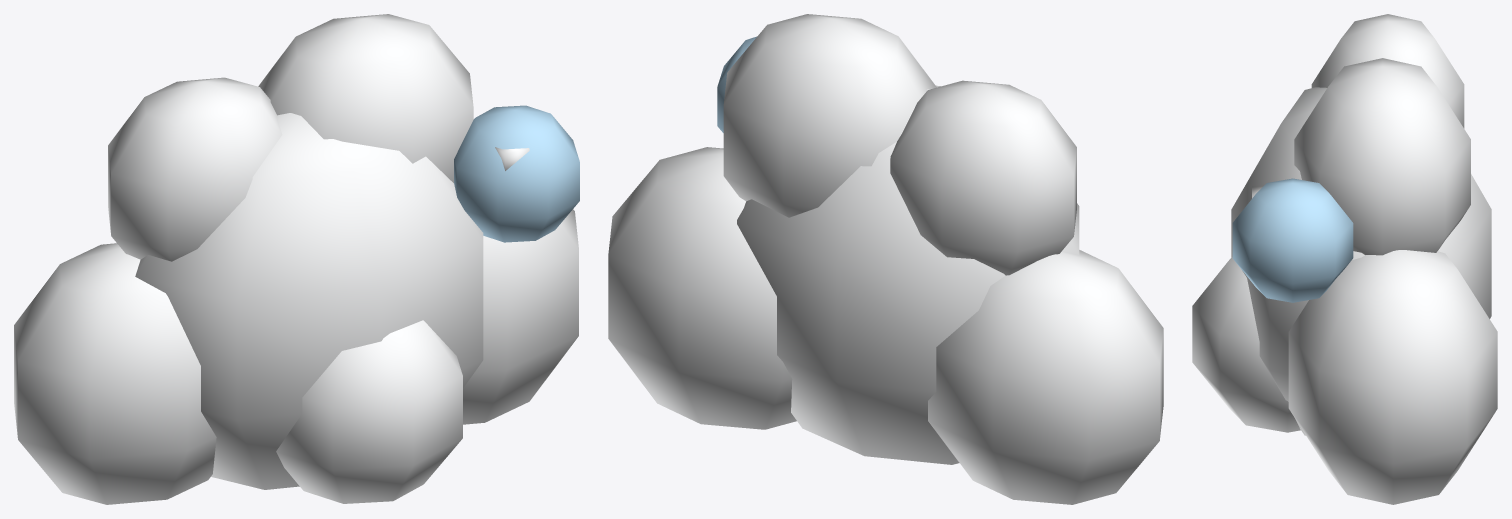
Rendered from CleanACat_Prop_FoamPuff.fbx.
3 views of the same model, side by side, from view 1: azimuth 30°, elevation 25°; view 2: azimuth 150°, elevation 25°; view 3: azimuth 270°, elevation 25° (orthographic). The views are drawn at different scales.
Parts seen in each view (by area): view 1: CleanACat_Prop_FoamPuff, CleanACat_Prop_FoamPuff_Bubbles; view 2: CleanACat_Prop_FoamPuff, CleanACat_Prop_FoamPuff_Bubbles; view 3: CleanACat_Prop_FoamPuff, CleanACat_Prop_FoamPuff_Bubbles.
Part boxes in pixels (x1,y1,x2,y2): CleanACat_Prop_FoamPuff: (14, 14, 578, 504); CleanACat_Prop_FoamPuff_Bubbles: (454, 105, 579, 242); CleanACat_Prop_FoamPuff: (608, 14, 1163, 504); CleanACat_Prop_FoamPuff_Bubbles: (717, 36, 756, 132); CleanACat_Prop_FoamPuff: (1192, 14, 1497, 504); CleanACat_Prop_FoamPuff_Bubbles: (1232, 178, 1353, 302).
Bounding box in the file's own units: 1.1 × 0.83 × 0.5785.
Materials: 1 (1 with a texture image).
